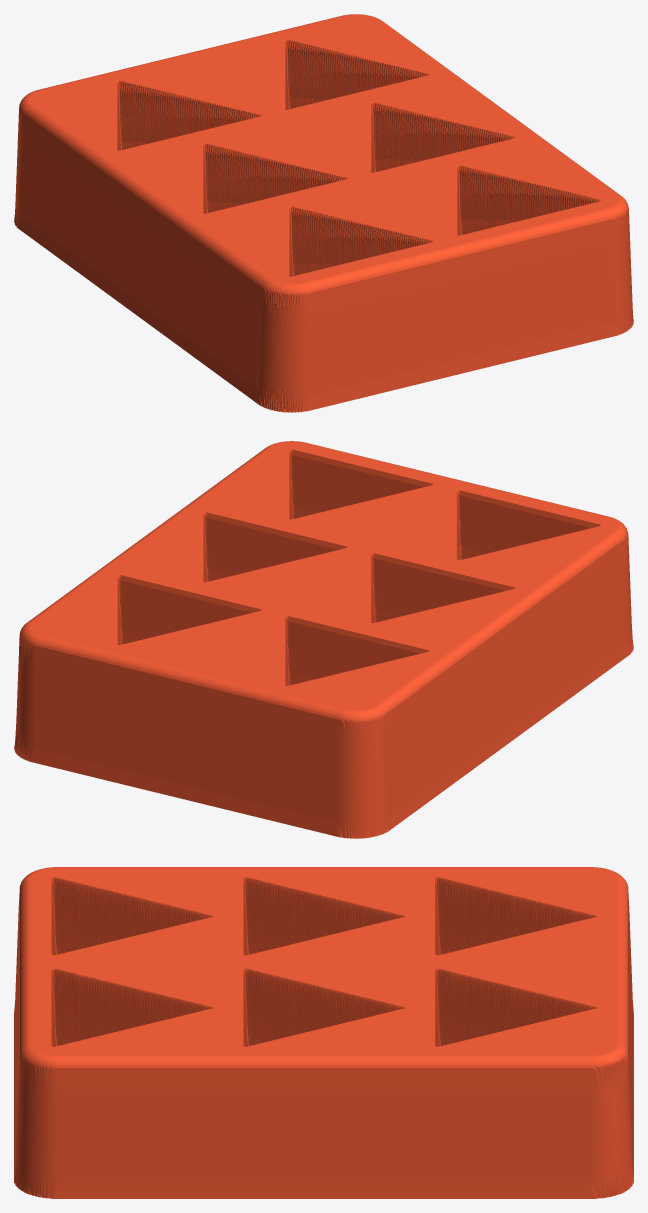
File: mold.glb
3 views of the same model, one above another, from view 1: azimuth 30°, elevation 25°; view 2: azimuth 150°, elevation 25°; view 3: azimuth 270°, elevation 25° (orthographic). The views are drawn at different scales.
Parts seen in each view (by area): view 1: geometry_0; view 2: geometry_0; view 3: geometry_0.
Boxes of the visible parts, left/top/right/bottom form: geometry_0: left=14, top=14, right=633, bottom=412; geometry_0: left=14, top=441, right=633, bottom=838; geometry_0: left=14, top=867, right=633, bottom=1198.
Size of the model in its own units: 0.0996 by 0.0314 by 0.1293.
